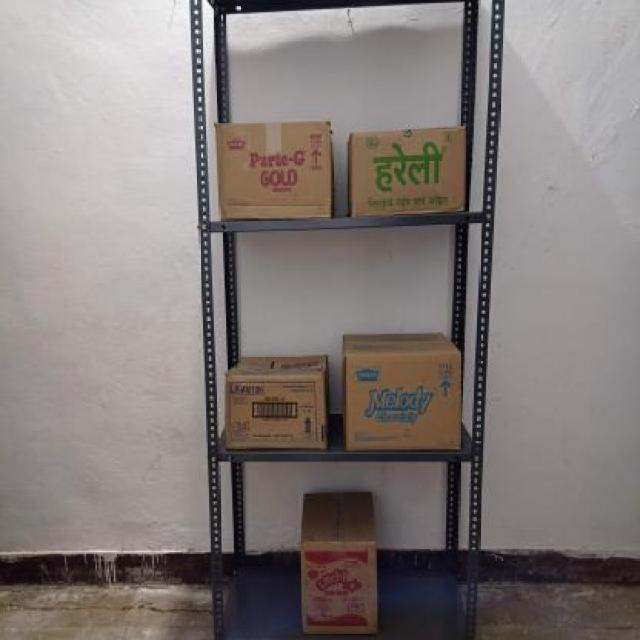box: (346, 343, 462, 454), (213, 119, 335, 219), (348, 126, 468, 211), (298, 540, 380, 636), (225, 376, 327, 452)
